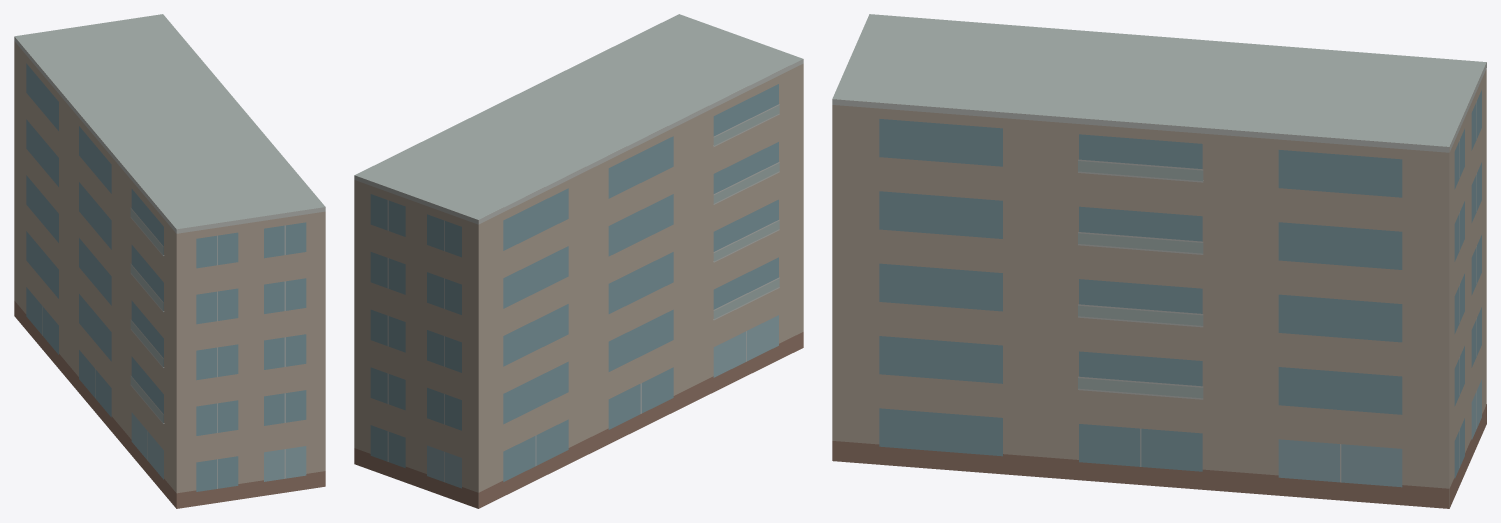
The model's file is survey-upis-32995119.glb.
The picture shows the model from 3 angles, left to right: view 1: azimuth 30°, elevation 25°; view 2: azimuth 150°, elevation 25°; view 3: azimuth 270°, elevation 25°; orthographic projection. The views are drawn at different scales.
Parts seen in each view (by area): view 1: survey-upis-32995119.tmp; view 2: survey-upis-32995119.tmp; view 3: survey-upis-32995119.tmp.
Boxes of the visible parts, <box> form: survey-upis-32995119.tmp: <box>14,14,325,508</box>; survey-upis-32995119.tmp: <box>354,14,803,508</box>; survey-upis-32995119.tmp: <box>832,14,1486,508</box>.
Size of the model in its own units: 12.03 by 15.25 by 25.01.
